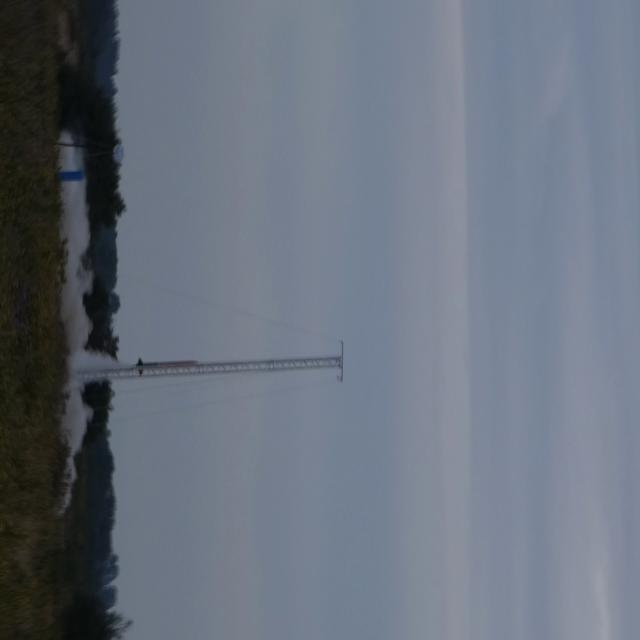Rocket: (136, 357, 201, 374)
